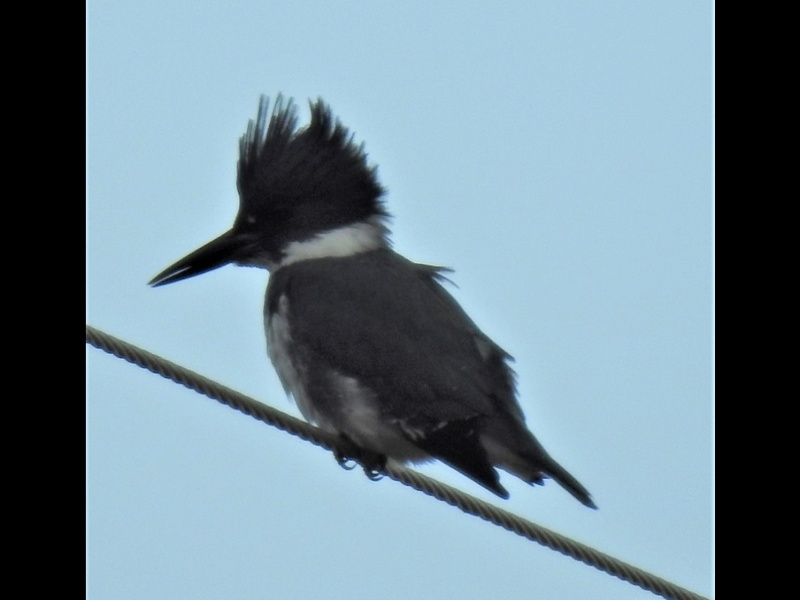kingfisher: (143, 91, 603, 515)
